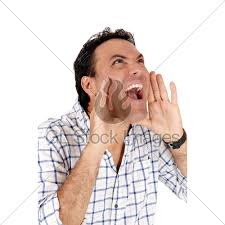white_male: (76, 47, 156, 123)
